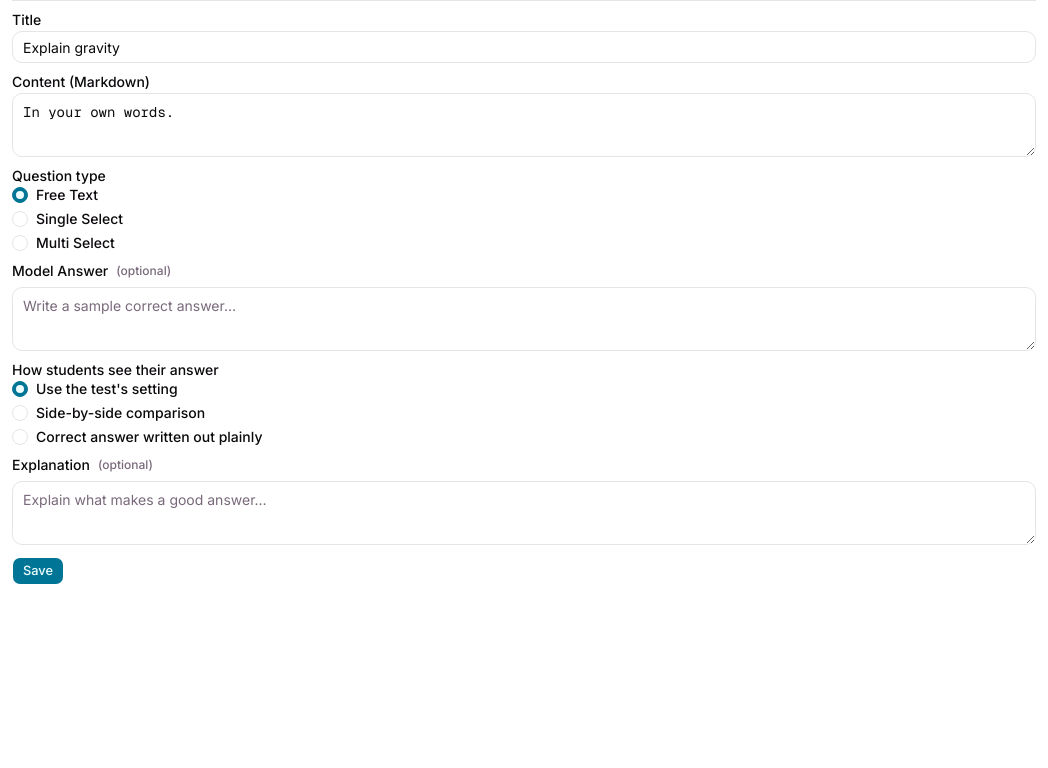
Feature: Pool question edit panel (Step 30) › shows the pool question's current title and body, and saves a correction to them
Replace the text in the field labelled "Title" with "Explain gravity (revised)" at (524, 47), box left=12, top=31, right=1036, bottom=63
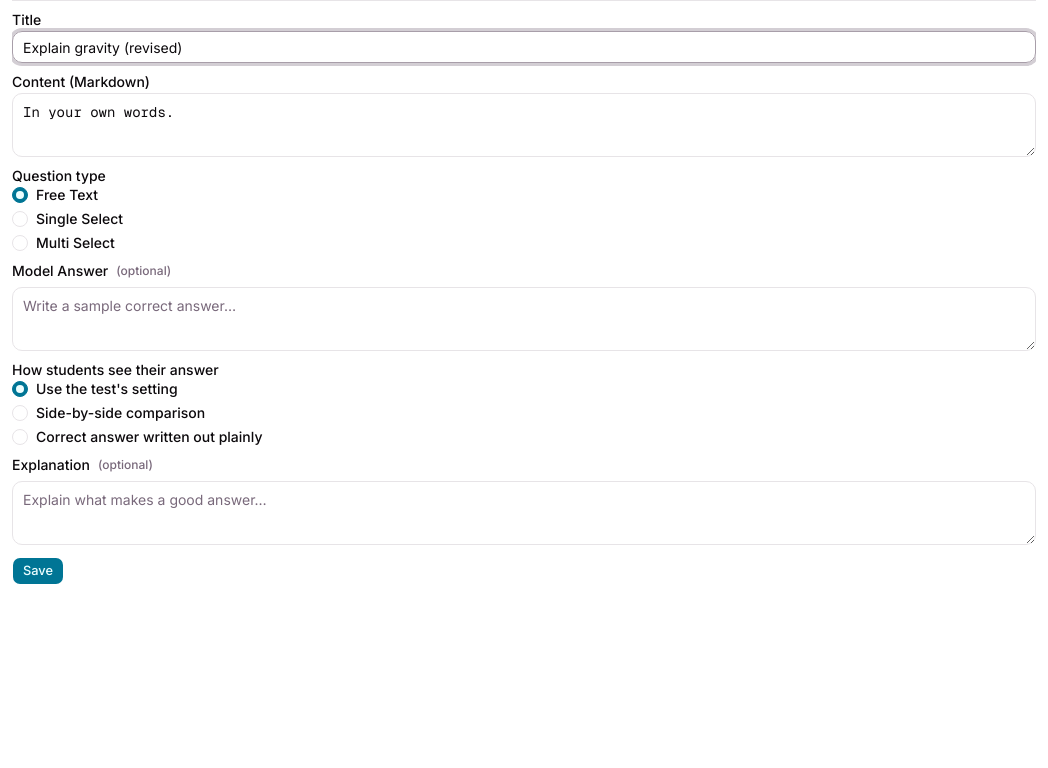
Click the button "Save" at (38, 571), box left=12, top=557, right=64, bottom=585
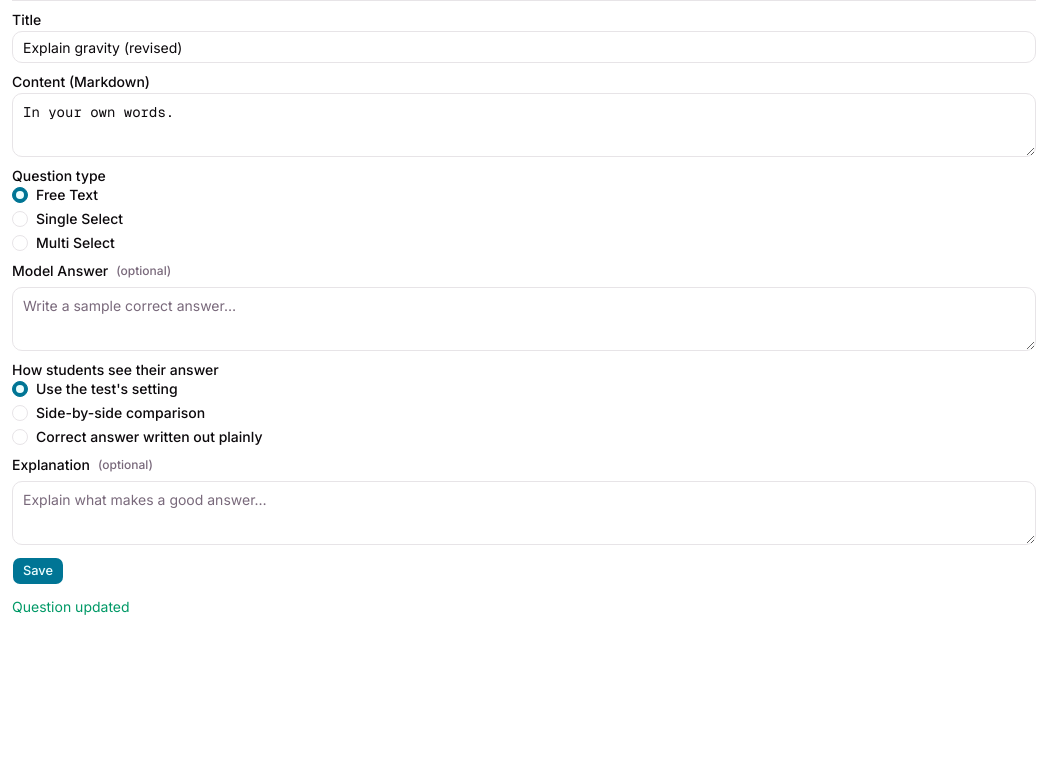
Expected: the text "Question updated" is shown, left=12, top=598, right=130, bottom=615
